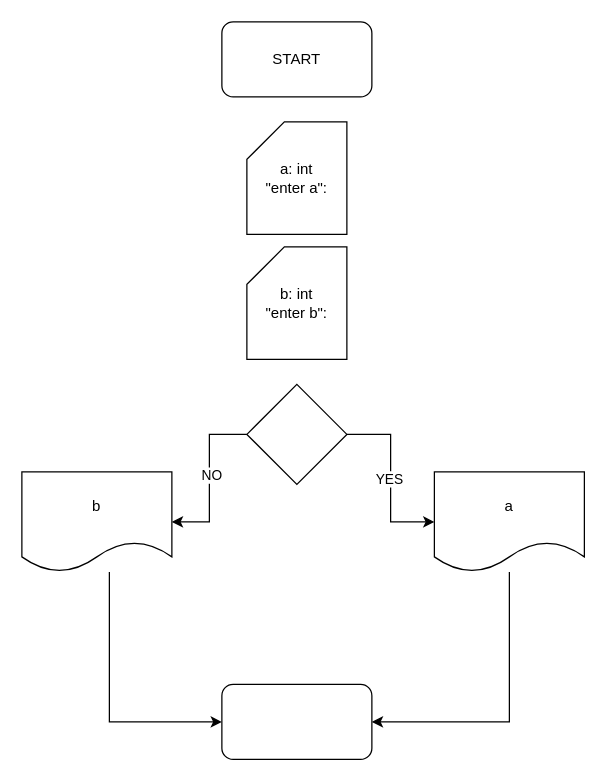
Image size: 606x781. Some labels were removed from this diagram. Each missing label, with the box of its shape:
a > b ?: (246, 383, 347, 484)
STOP: (221, 683, 372, 759)
